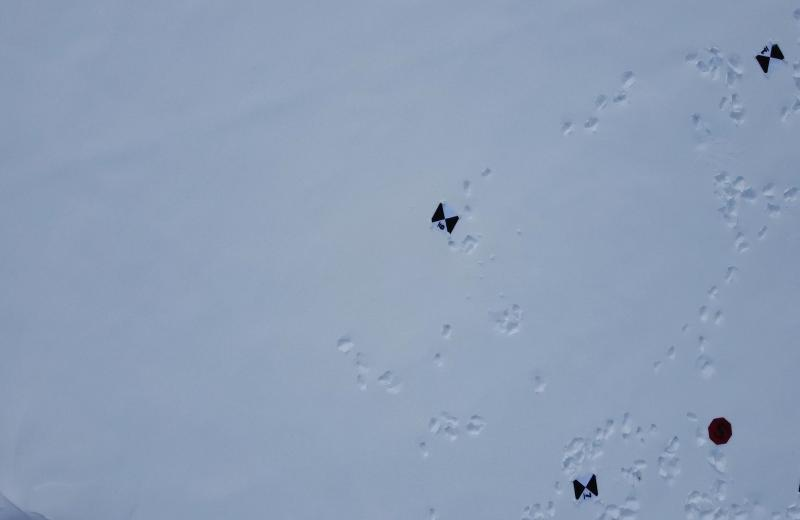Octagon: (703, 413, 734, 448)
